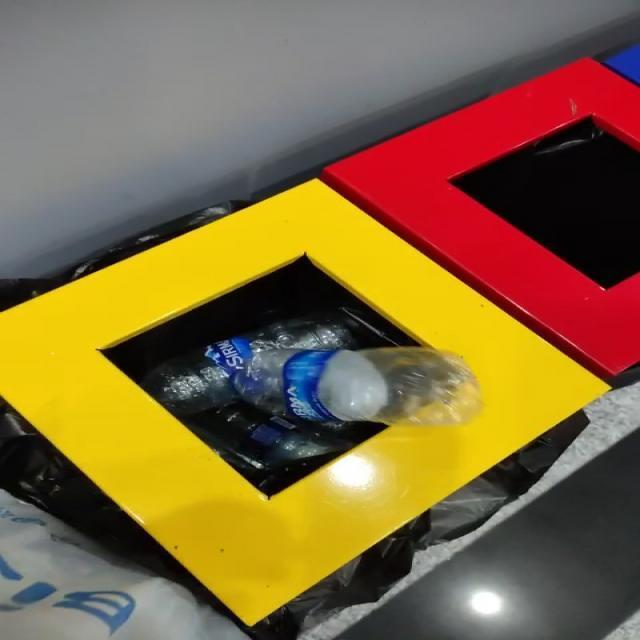Plastic: (233, 348, 483, 427)
